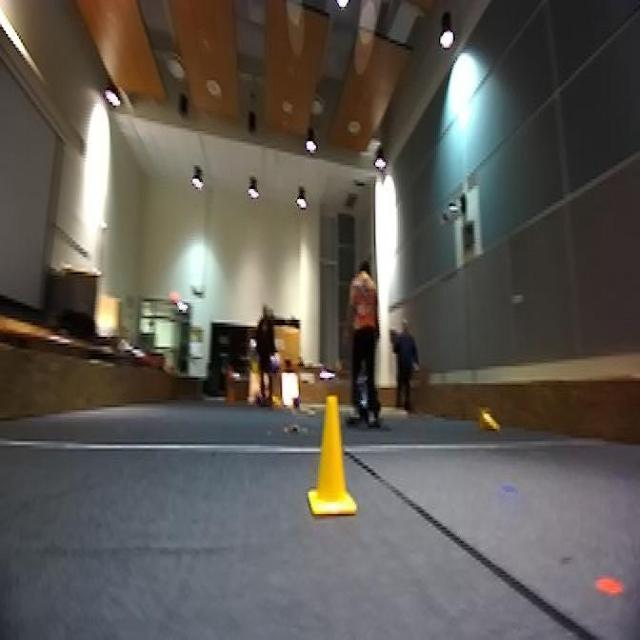frc_cone: (302, 395, 359, 524), (471, 407, 505, 437)
